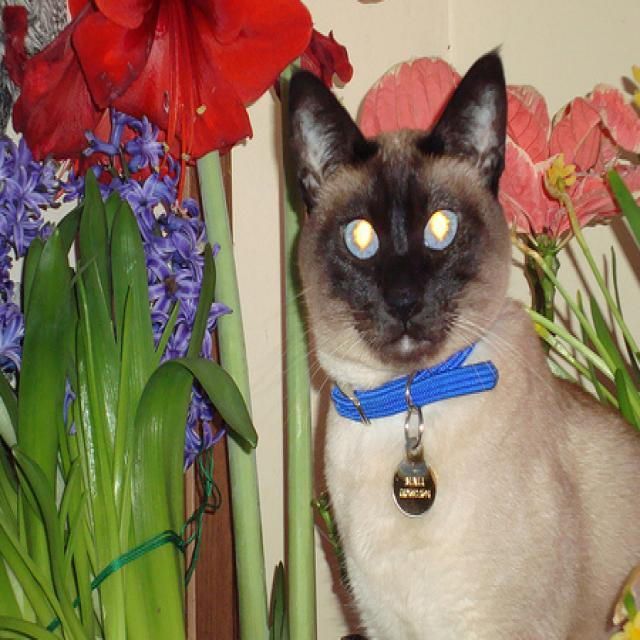Siamese: (283, 43, 640, 640)
